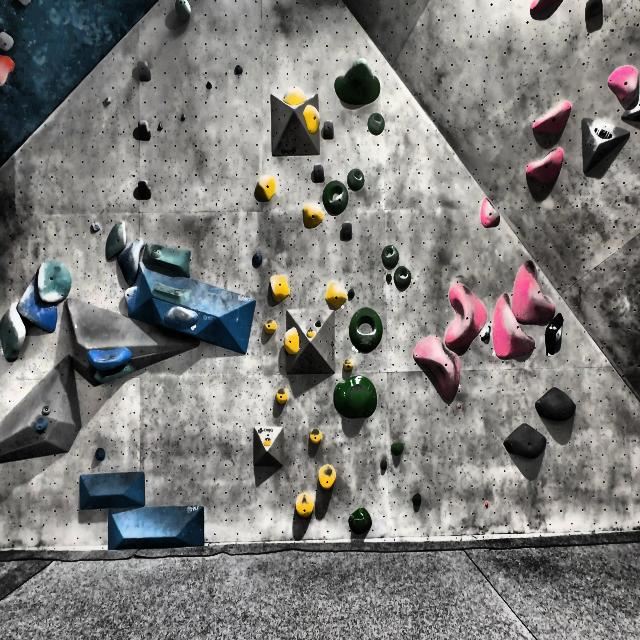Hold: (506, 260, 558, 324), (411, 336, 459, 402), (445, 274, 486, 350), (493, 294, 533, 362), (15, 272, 58, 332), (333, 59, 383, 107), (333, 376, 378, 422), (500, 422, 548, 464), (142, 242, 194, 279), (524, 146, 563, 190), (0, 301, 29, 360), (532, 386, 577, 424), (35, 258, 71, 304), (530, 103, 578, 137), (115, 237, 146, 285), (351, 306, 382, 353), (90, 362, 142, 386), (609, 64, 640, 104), (543, 312, 567, 358), (104, 218, 130, 260), (161, 301, 199, 329), (322, 181, 349, 216), (85, 346, 132, 365), (268, 274, 294, 308), (150, 283, 197, 300), (344, 506, 374, 532), (252, 175, 281, 201), (316, 460, 340, 490), (481, 196, 502, 229), (282, 82, 308, 106), (323, 282, 347, 307), (528, 0, 561, 18), (304, 104, 322, 136), (301, 201, 322, 228), (283, 324, 300, 357), (122, 288, 142, 314), (0, 56, 16, 88), (295, 493, 313, 520), (135, 112, 151, 141), (592, 125, 616, 144), (135, 176, 154, 200), (347, 167, 364, 193), (135, 64, 155, 86), (395, 267, 415, 288), (369, 113, 388, 135), (586, 0, 604, 23), (337, 220, 355, 242), (0, 27, 16, 50), (382, 248, 402, 266), (173, 0, 191, 20), (310, 163, 326, 185), (273, 388, 290, 408), (262, 318, 278, 334), (32, 418, 49, 433), (308, 430, 322, 448), (391, 439, 406, 455), (412, 490, 424, 506), (94, 446, 106, 462), (248, 255, 265, 266), (235, 62, 246, 78), (342, 358, 353, 372), (380, 456, 390, 471), (348, 286, 356, 302), (304, 327, 312, 341), (314, 319, 327, 327), (205, 80, 215, 90), (262, 439, 272, 447), (158, 121, 165, 131), (179, 115, 188, 122)
